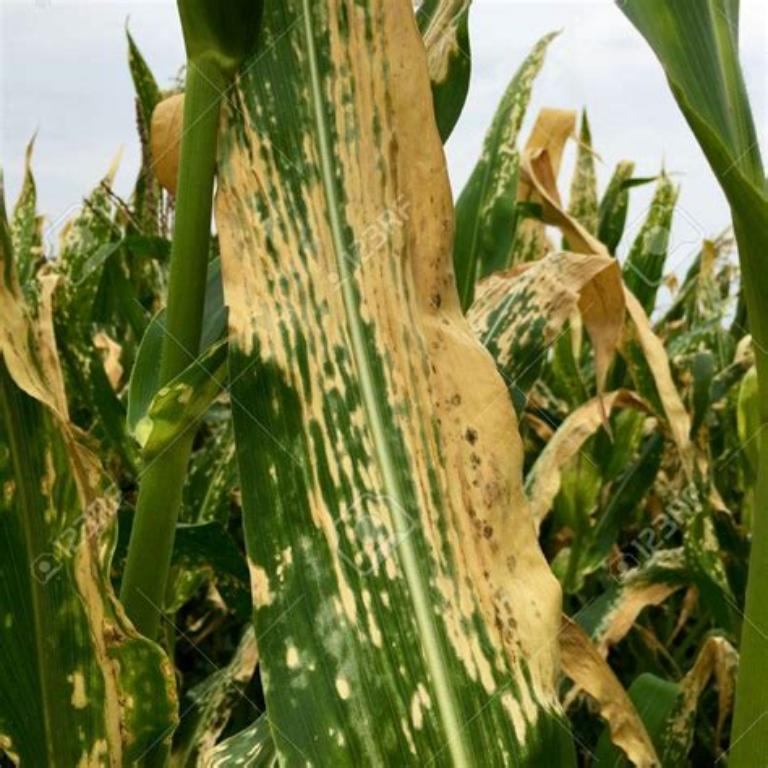blight: (304, 0, 414, 536), (434, 456, 518, 726)
